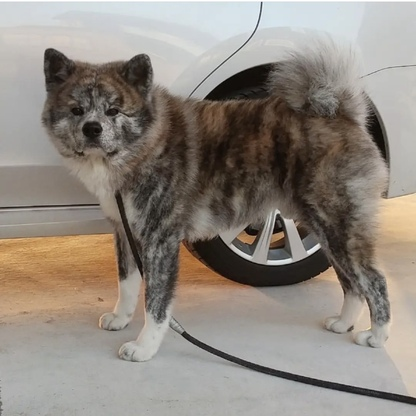akita: (28, 24, 408, 369)
